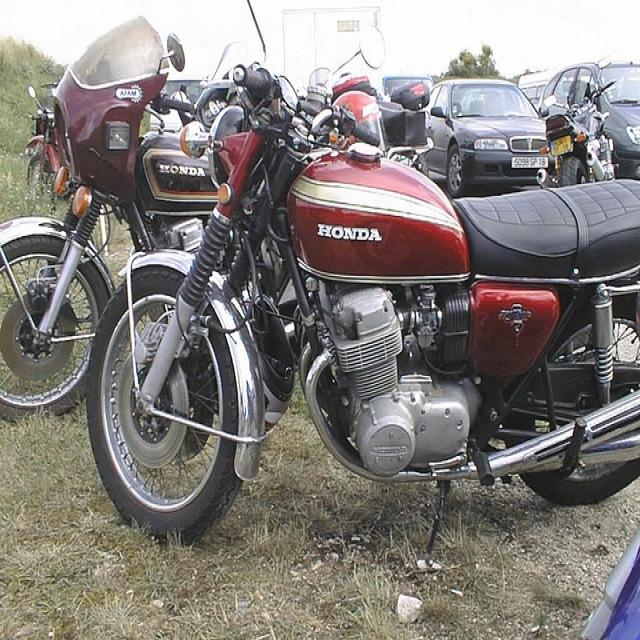car: (423, 80, 552, 197), (536, 56, 639, 176), (515, 63, 563, 104)
motorbike: (84, 62, 639, 570), (1, 16, 238, 423), (535, 53, 619, 188)
truck: (381, 73, 432, 99)
